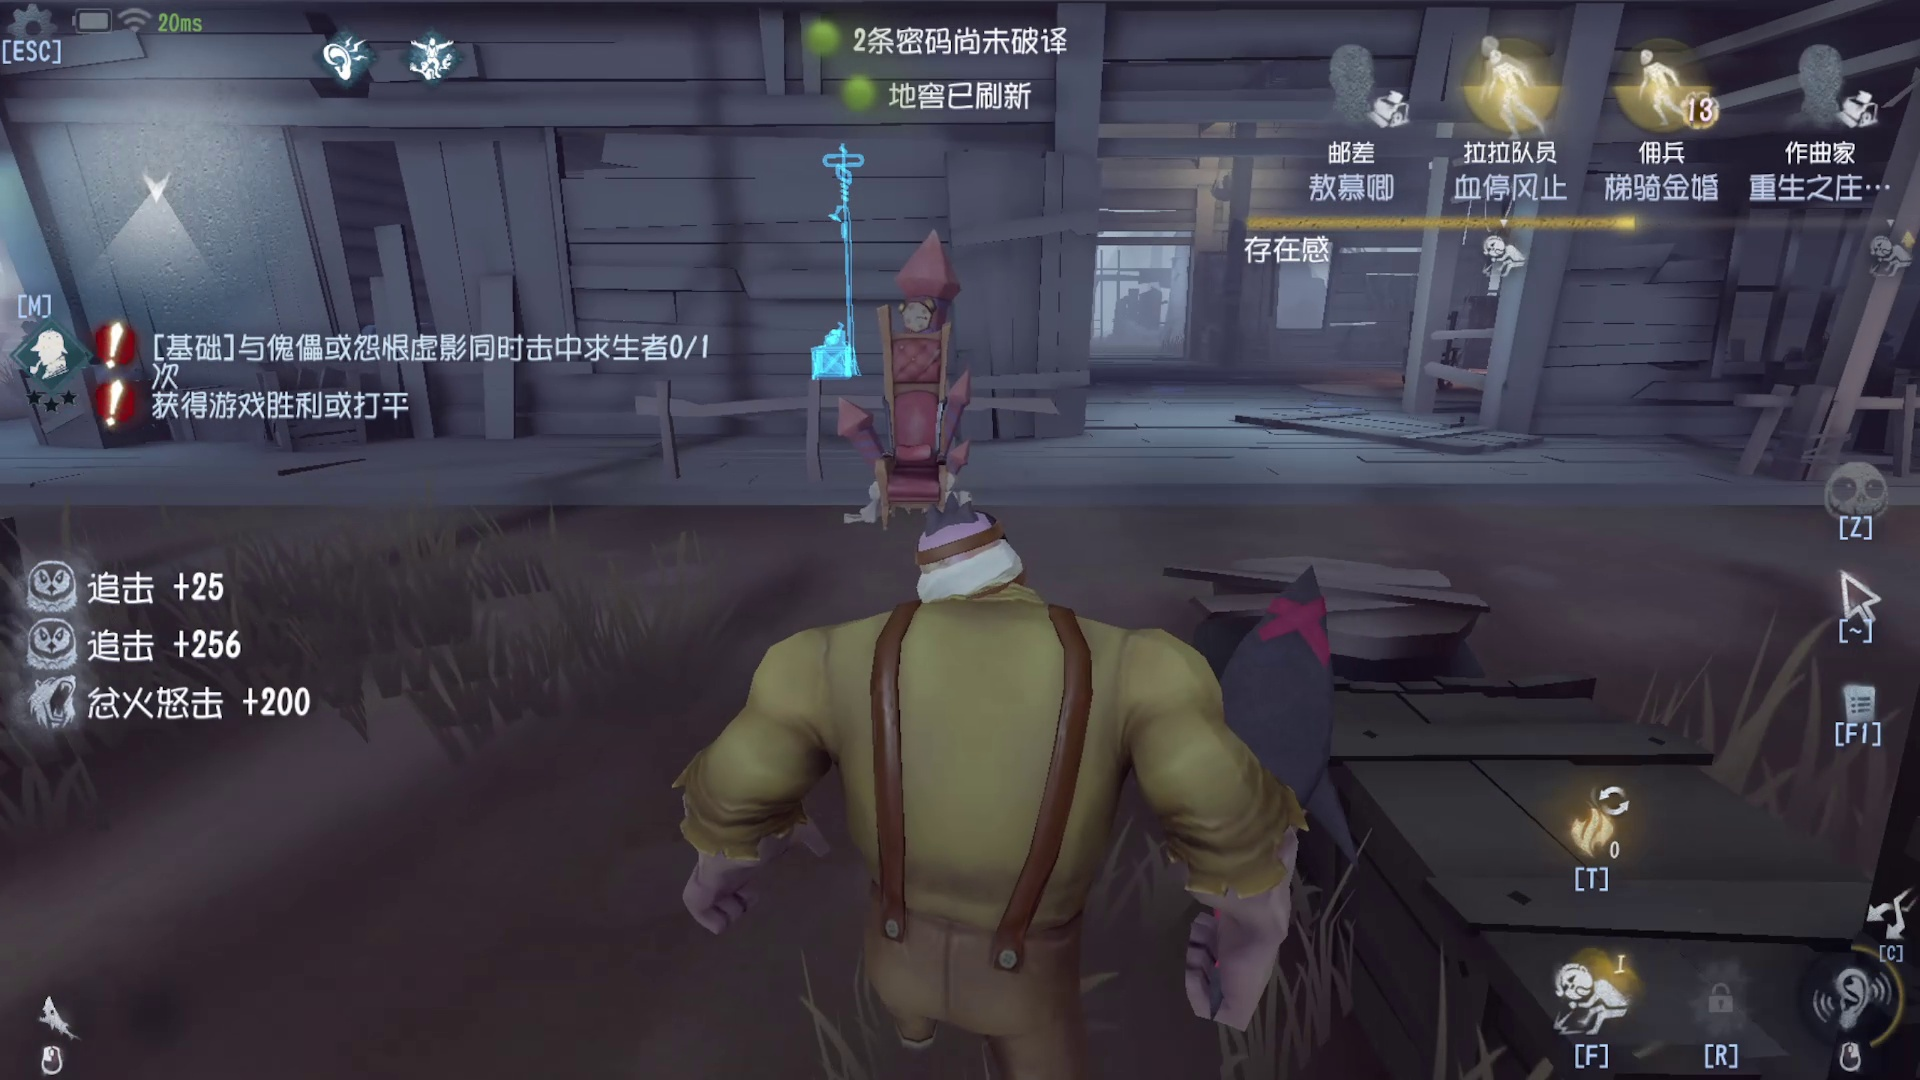密码机: (793, 124, 876, 392)
狂欢之椅: (841, 269, 977, 545)
